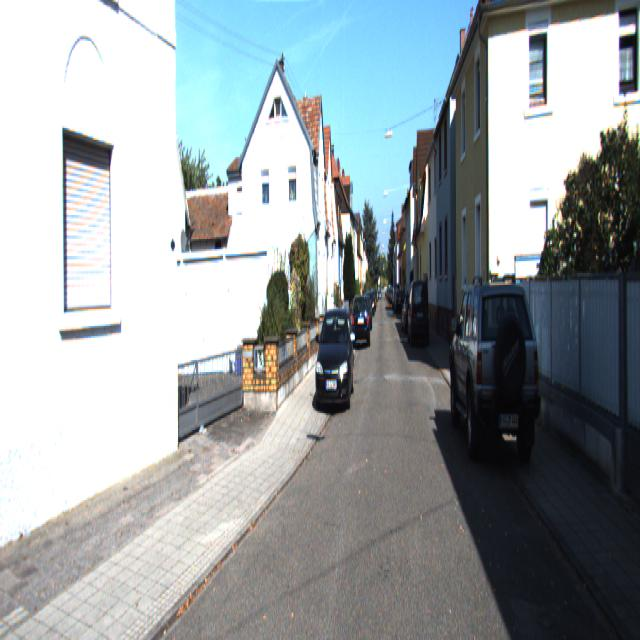Car: (448, 272, 542, 476), (314, 302, 354, 408), (410, 282, 431, 352), (353, 293, 370, 350)
